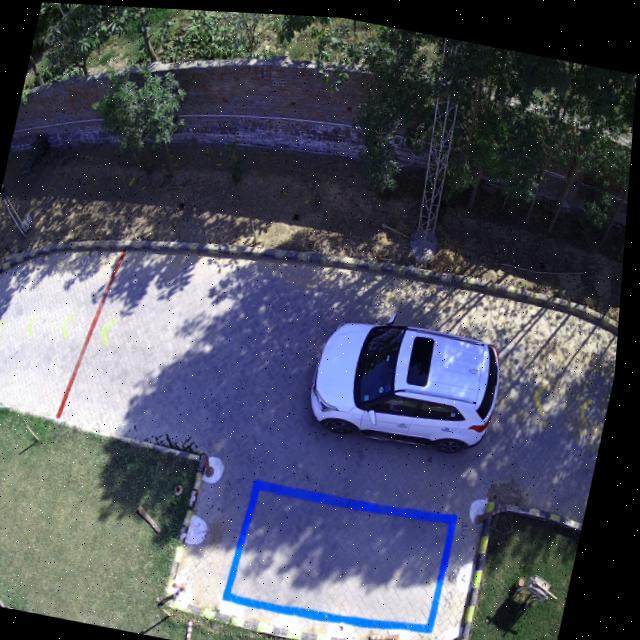car: (317, 316, 505, 446)
